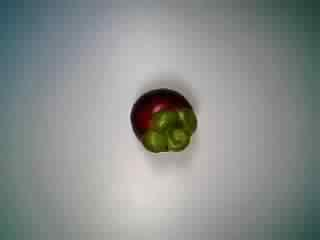mangosteen: (116, 79, 199, 154)
